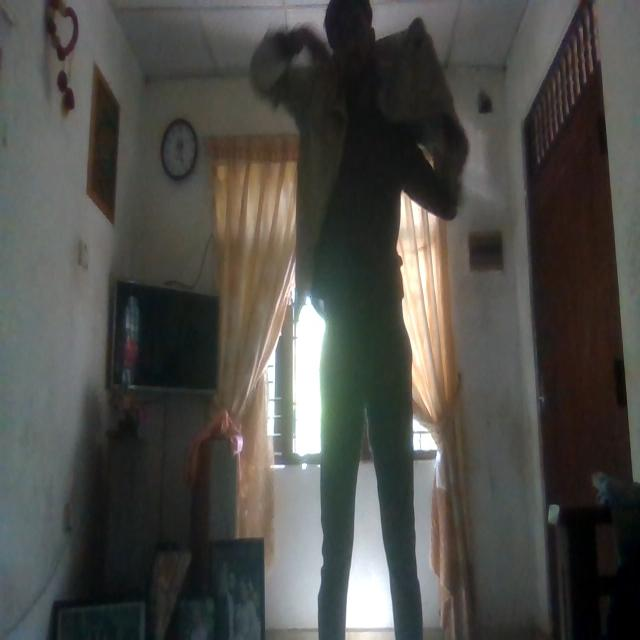Jacket_Wearer: (255, 58, 469, 298)
Person: (287, 16, 432, 623)
